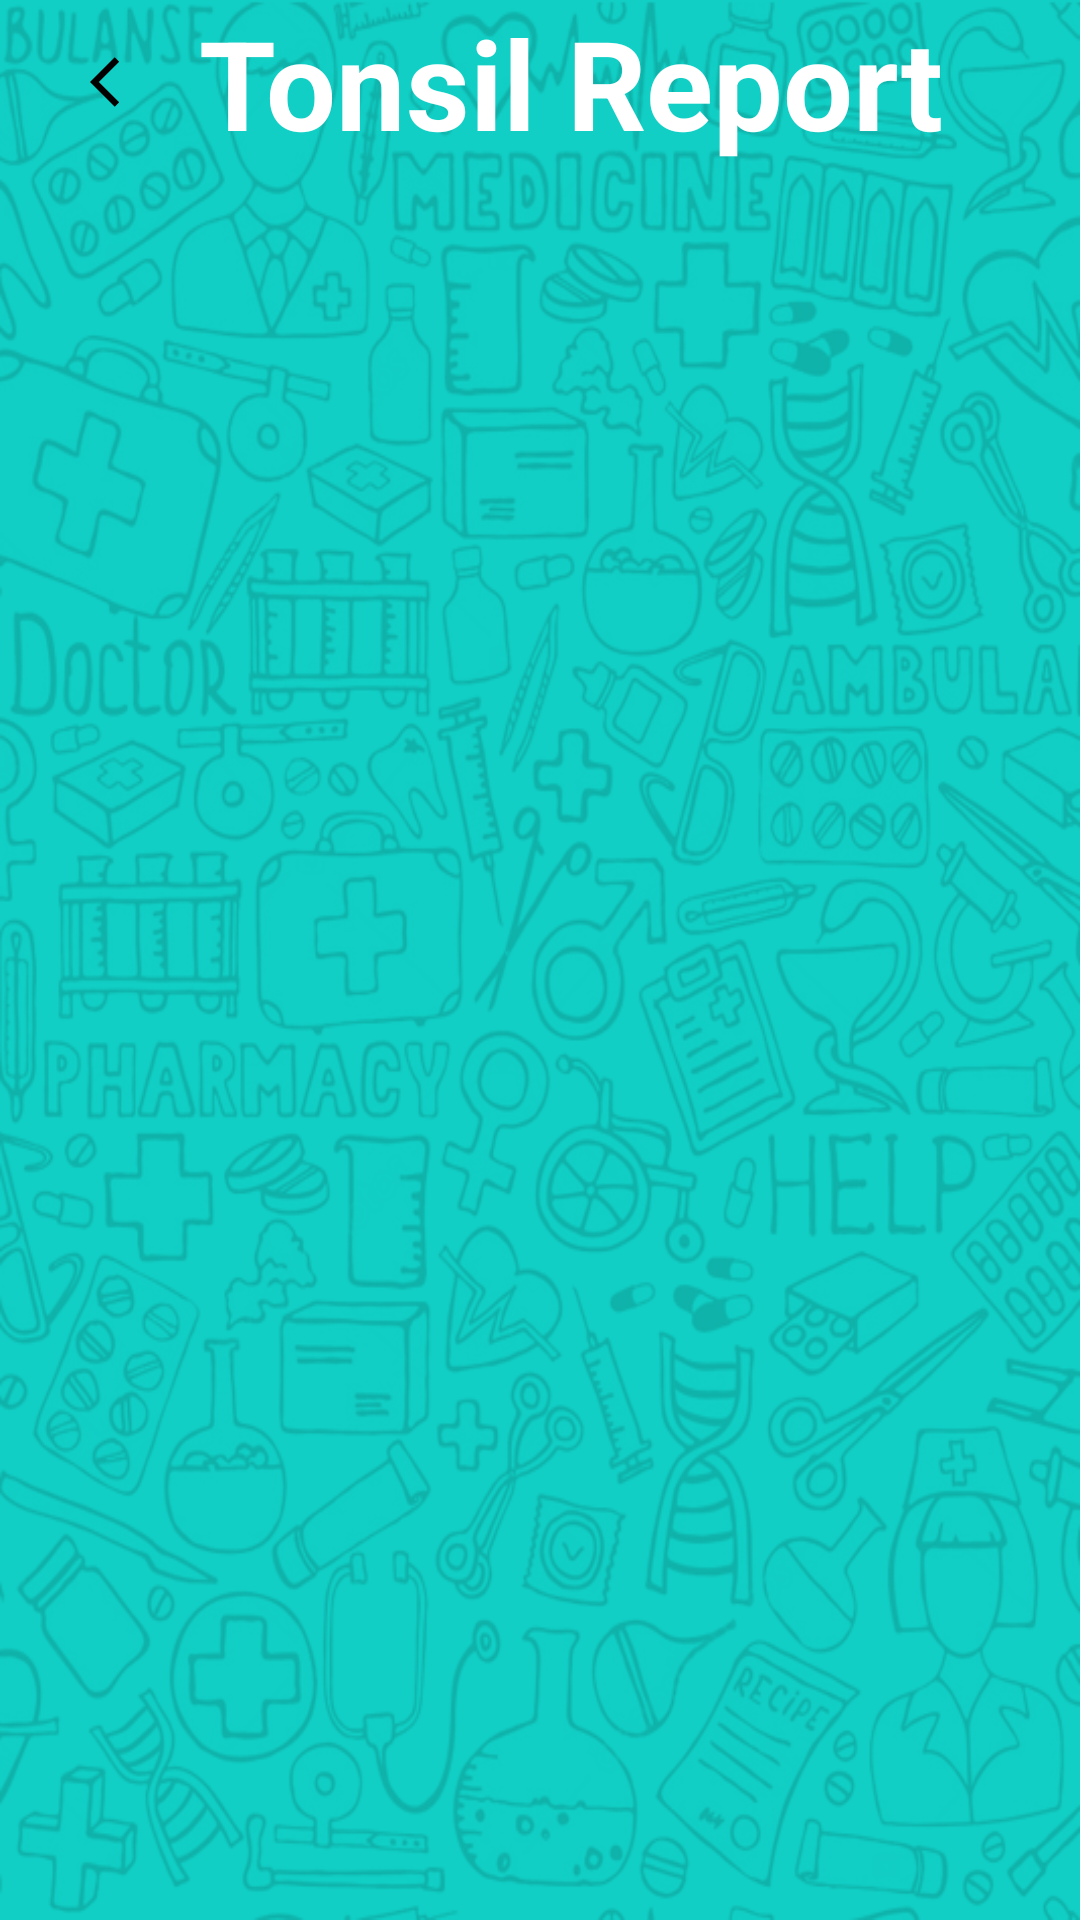

Named icons in this screenshot (1080px×1920px) and their centers, point (x, y):
back: point (120, 82)
